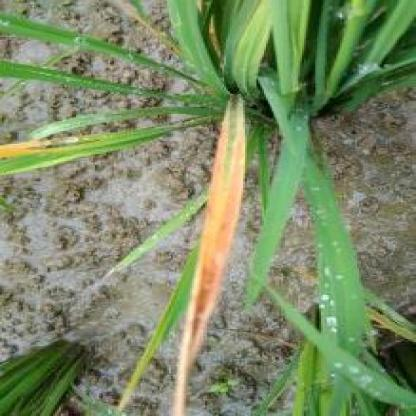Tungro: (182, 85, 253, 413)
